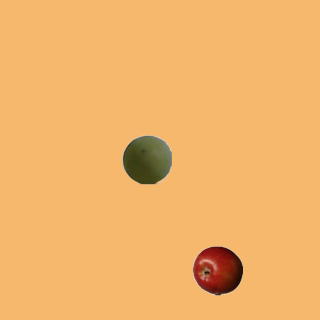Apple Braeburn: (192, 245, 242, 295)
Grape White 4: (121, 134, 171, 184)
